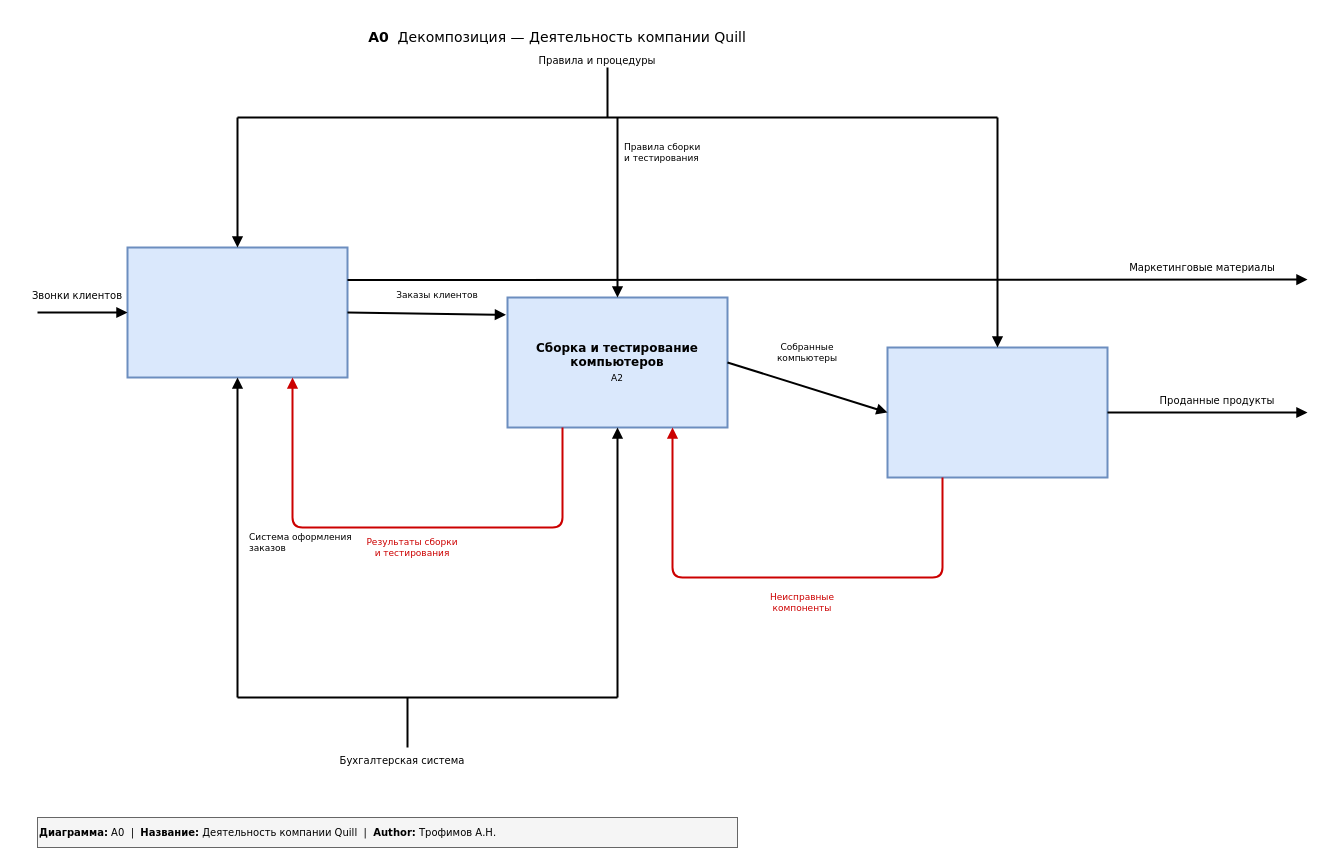
Image size: 1333x865. Some labels were removed from this diagram. Each missing label, with the centre of its shape:
Отгрузка и получение A3: pixel 997 412
Продажи и маркетинг A1: pixel 237 312
